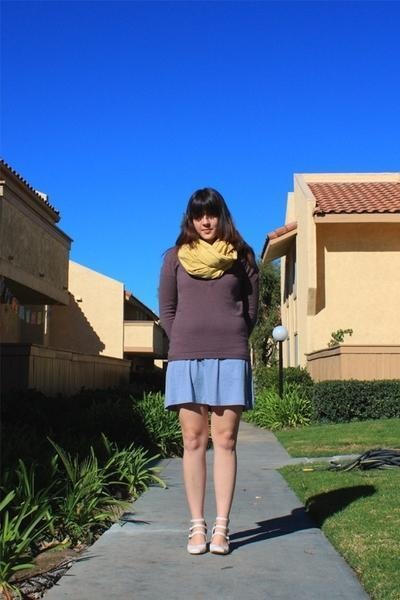shirt: (157, 241, 272, 375)
shoe: (187, 252, 237, 552)
skirt: (156, 359, 244, 407)
